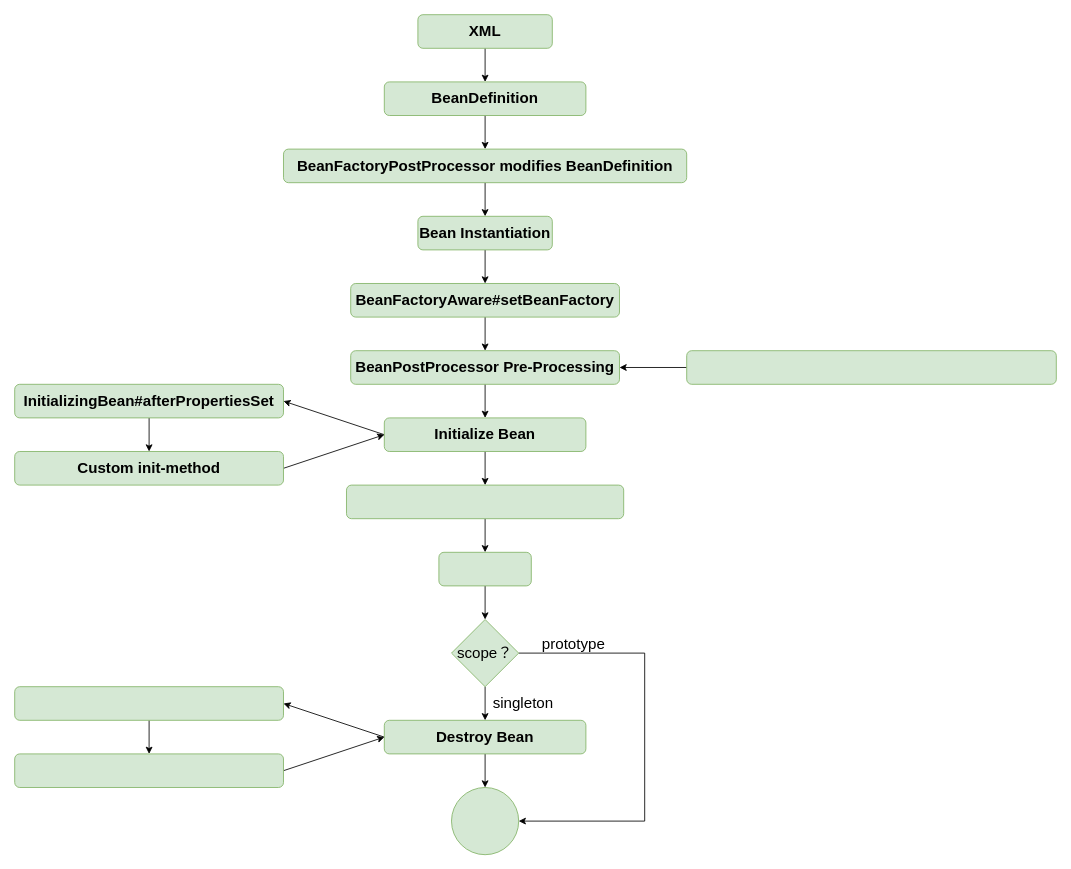
This 1071x869 diagram has some shape labels left out. The centre of each missing label's shape, as x and y in pixels:
"ApplicationContextAware#setApplicationContext" goes at point 871,367.
"Bean Usage" goes at point 484,568.
"BeanPostProcessor Post-Processing" goes at point 485,501.
"Custom destroy-method" goes at point 149,770.
"DisposableBean#destroy" goes at point 149,703.
